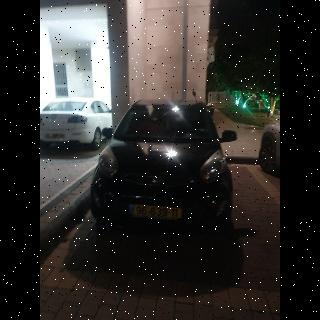LicensePlate: (135, 205, 181, 219)
